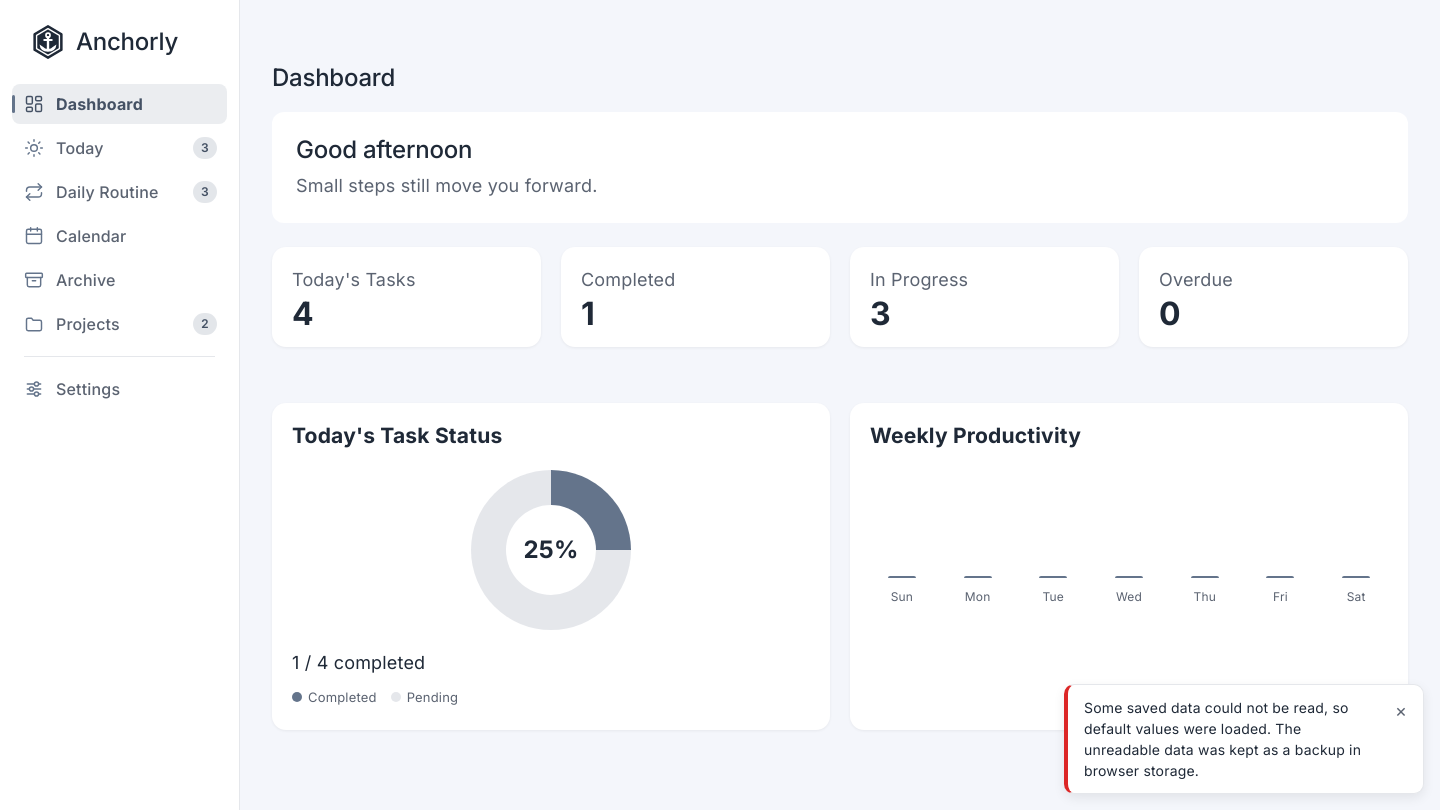
App and unsafe storage › hides the warning when the close button is clicked
Click the button named "Close": point(1401, 711) x1=1387 y1=697 x2=1415 y2=725
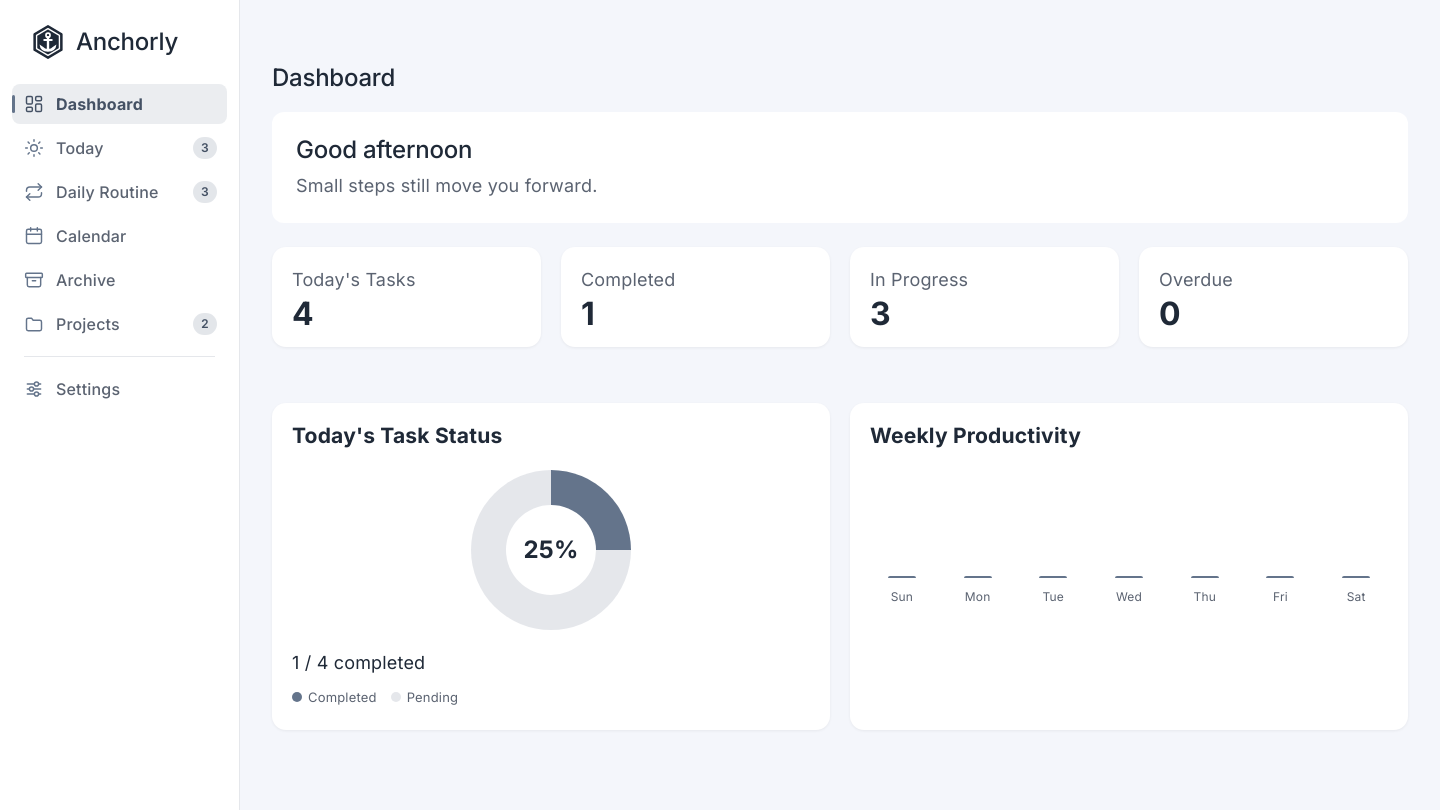
Result: the message is gone
